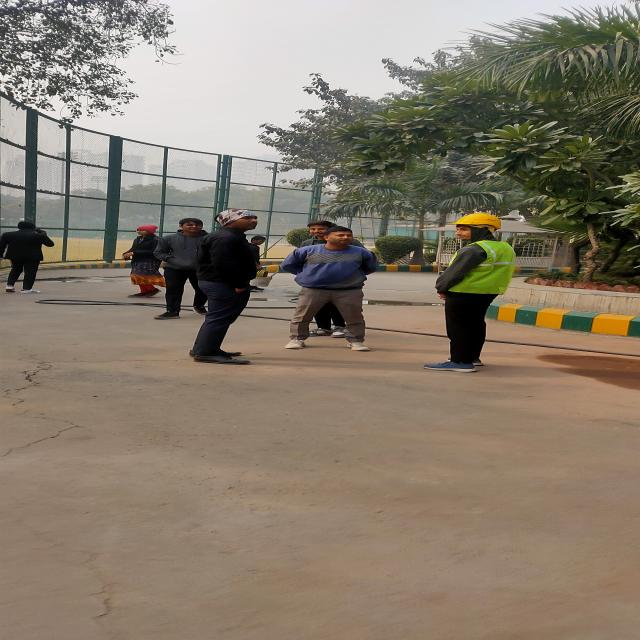safe: (435, 210, 517, 373)
unsafe: (281, 226, 379, 351), (198, 208, 258, 364), (160, 218, 202, 320), (0, 220, 53, 294), (122, 224, 160, 298)
